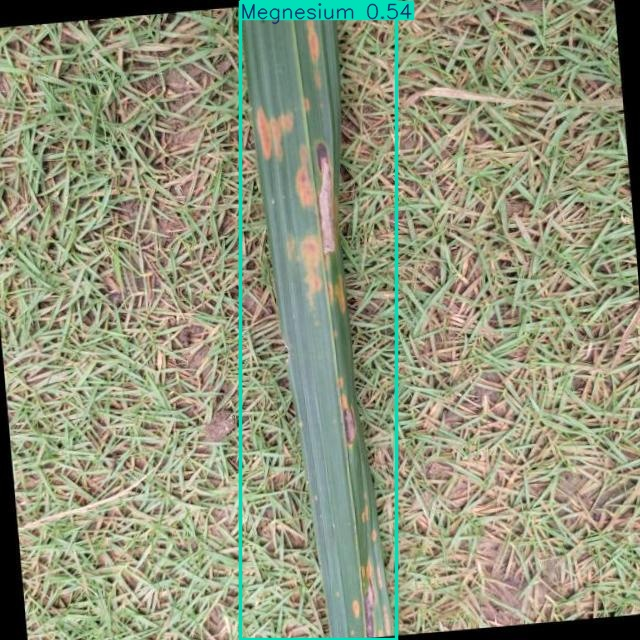Megnesium: (240, 1, 396, 640)
